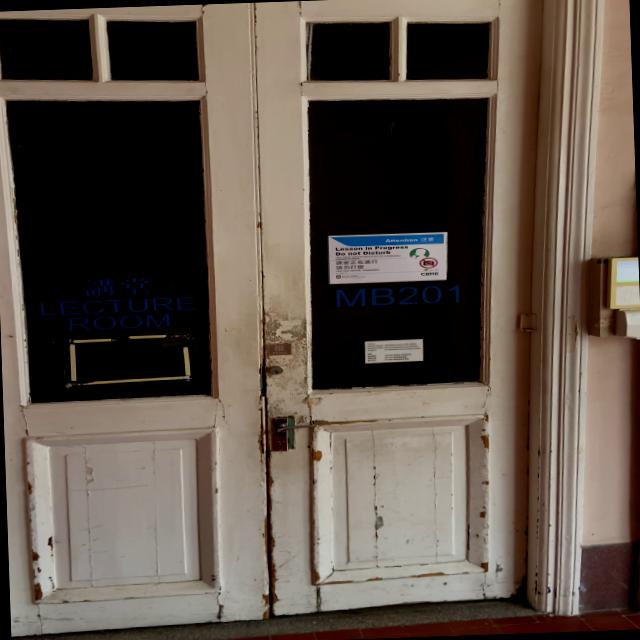room201Window: (322, 280, 468, 310)
